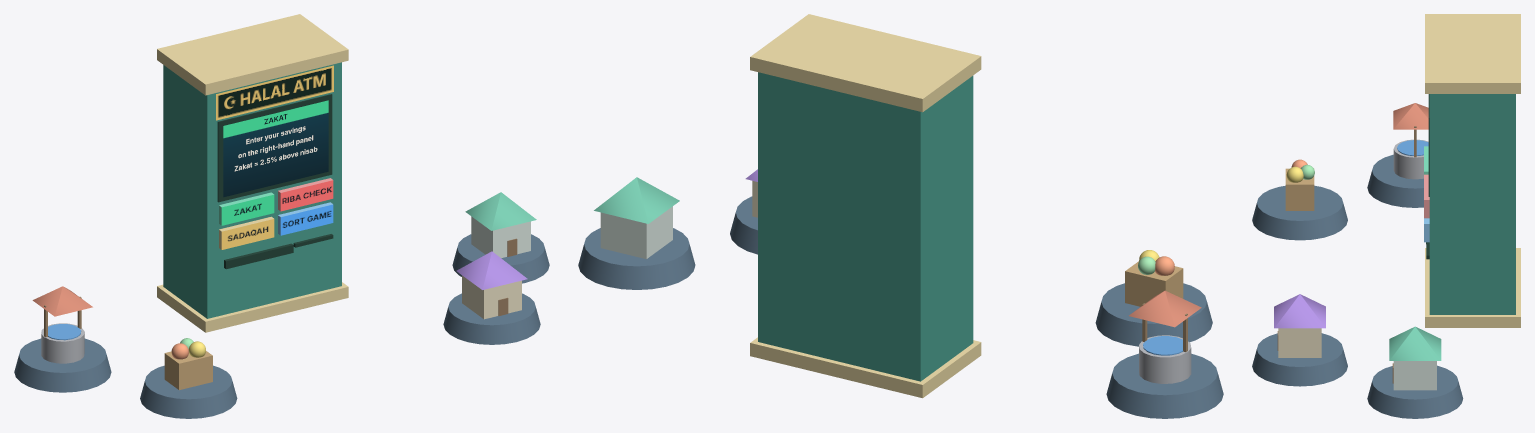
The model's file is atm.glb.
3 views of the same model, side by side, from view 1: azimuth 30°, elevation 25°; view 2: azimuth 150°, elevation 25°; view 3: azimuth 270°, elevation 25° (orthographic). The views are drawn at different scales.
Size of the model in its own units: 0.5961 by 0.2706 by 0.2692.
Materials: 51 (6 with a texture image).
